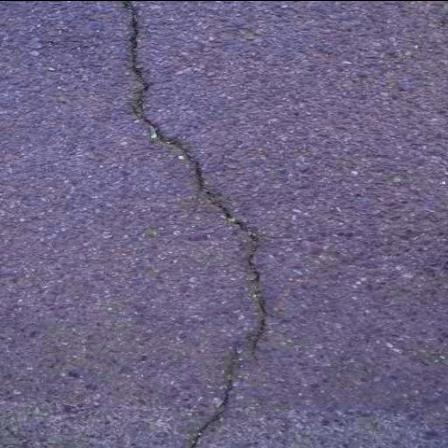crack: (75, 0, 317, 373), (188, 341, 248, 448)
